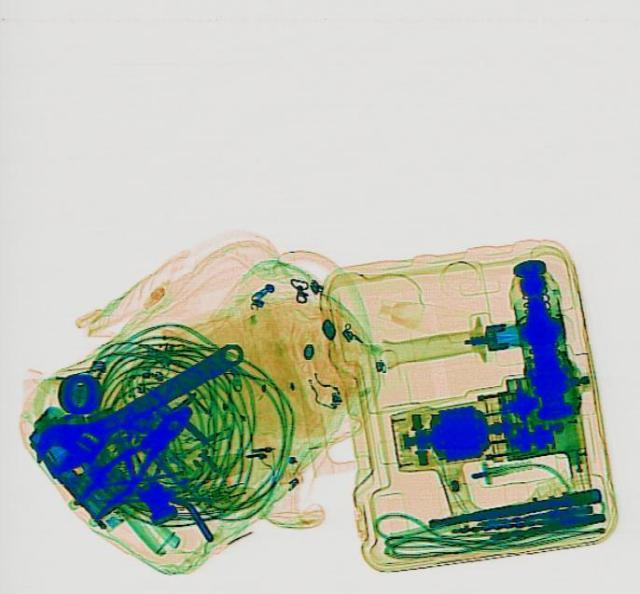Pliers: (64, 395, 208, 522)
Wrench: (22, 326, 256, 481)
